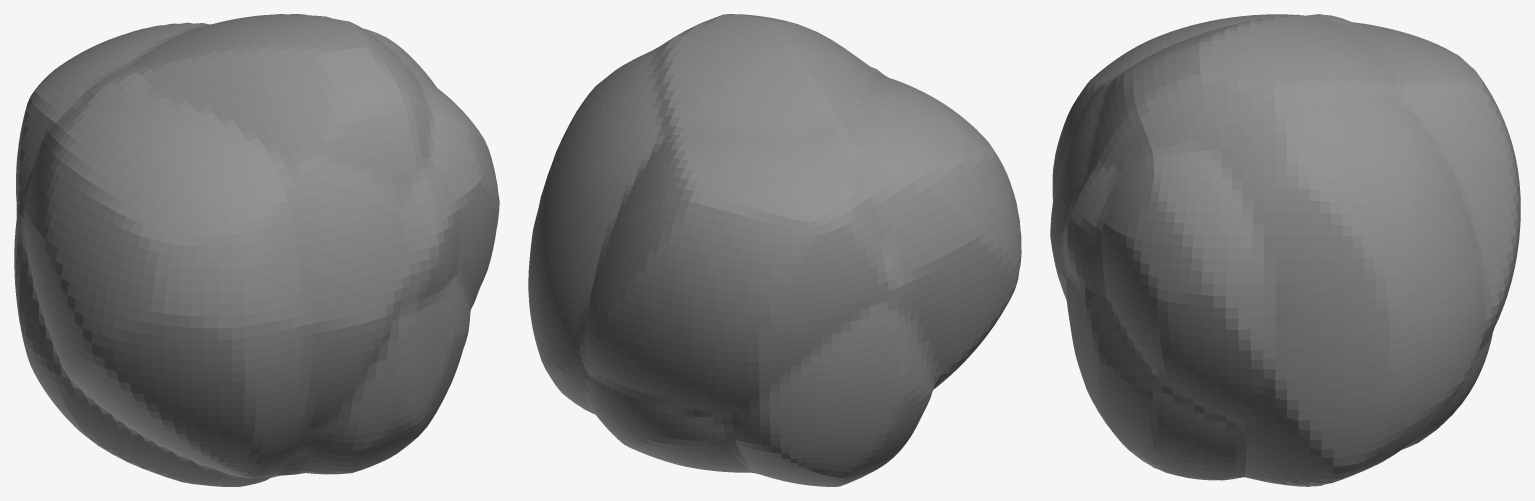
The model's file is stone6.fbx.
3 renders of one model, left to right at view 1: azimuth 30°, elevation 25°; view 2: azimuth 150°, elevation 25°; view 3: azimuth 270°, elevation 25°, orthographic. The views are drawn at different scales.
Visible parts, largest first — view 1: Cube.002; view 2: Cube.002; view 3: Cube.002.
Boxes of the visible parts, x1,y1,x2,y2 form: Cube.002: (14,14,499,486); Cube.002: (528,14,1021,486); Cube.002: (1050,14,1520,486).
Bounding box in the file's own units: 187 × 179 × 178.
1 material, 1 textured.
